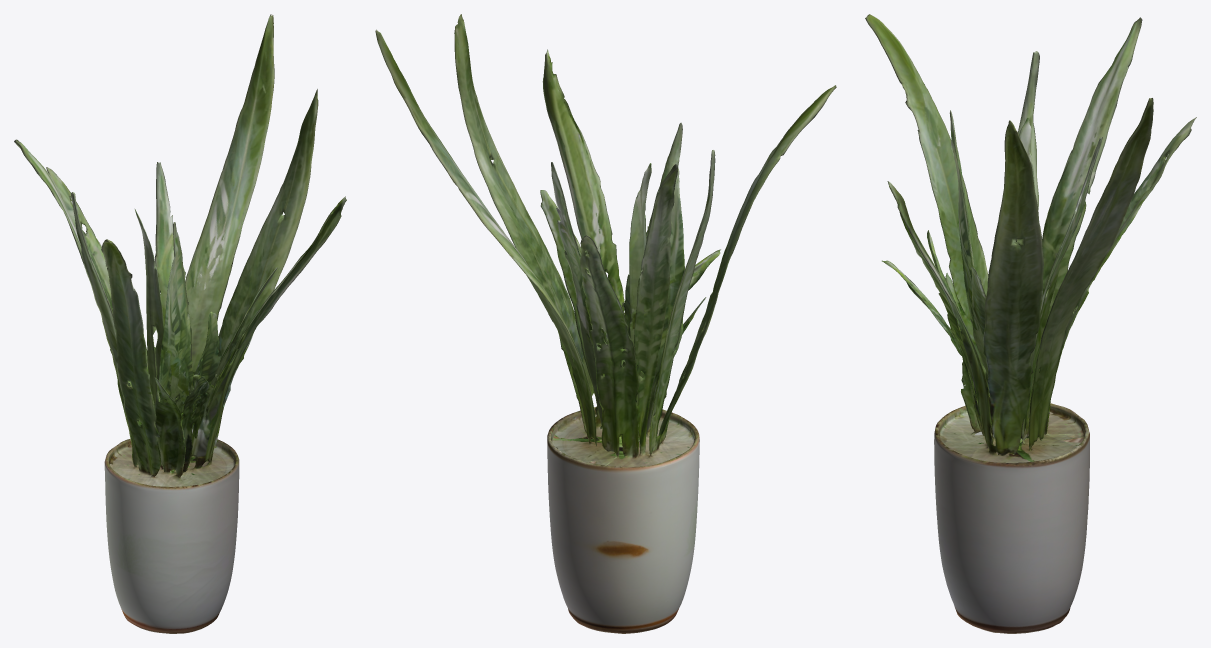
The picture shows the model from 3 angles, left to right: view 1: azimuth 30°, elevation 25°; view 2: azimuth 150°, elevation 25°; view 3: azimuth 270°, elevation 25°; orthographic projection. The views are drawn at different scales.
Size of the model in its own units: 1.15 by 1.99 by 0.9875.
Materials: 1 (1 with a texture image).
